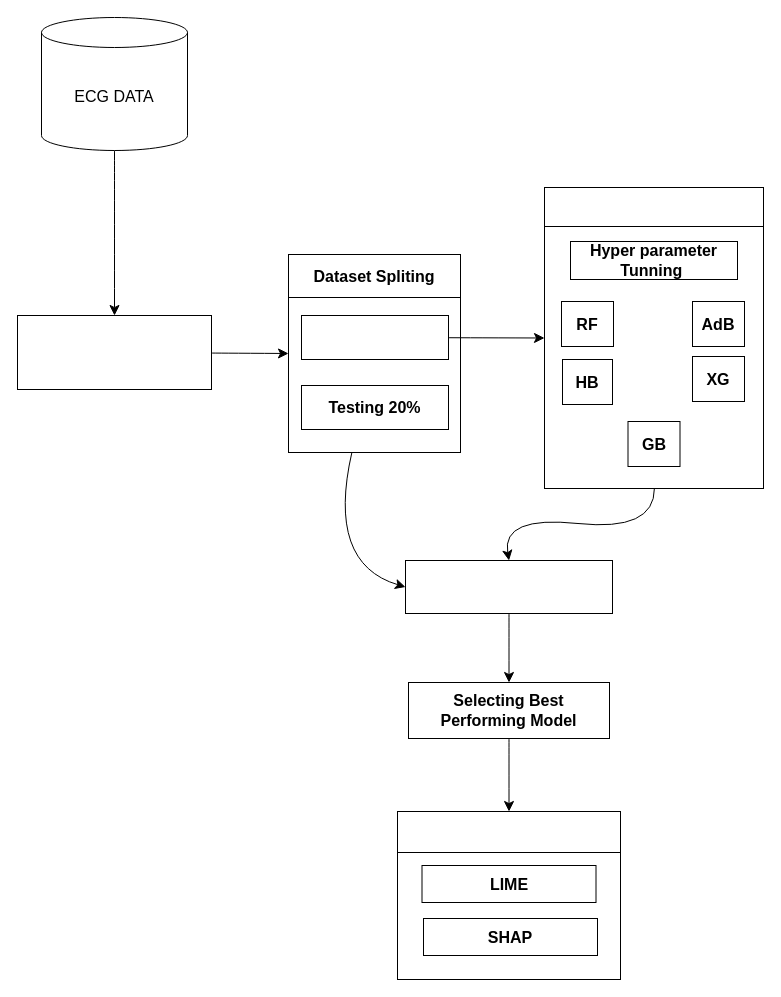
The diagram is 781 pixels wide and 997 high, and some of its shapes have lost their labels. Each missing label, with the centre of its shape:
"Feature Extraction" belongs at (x=114, y=352).
"ML Models" belongs at (x=654, y=206).
"Model Evaluation" belongs at (x=508, y=587).
"Training 80%" belongs at (x=374, y=337).
"XAI" belongs at (x=508, y=831).
